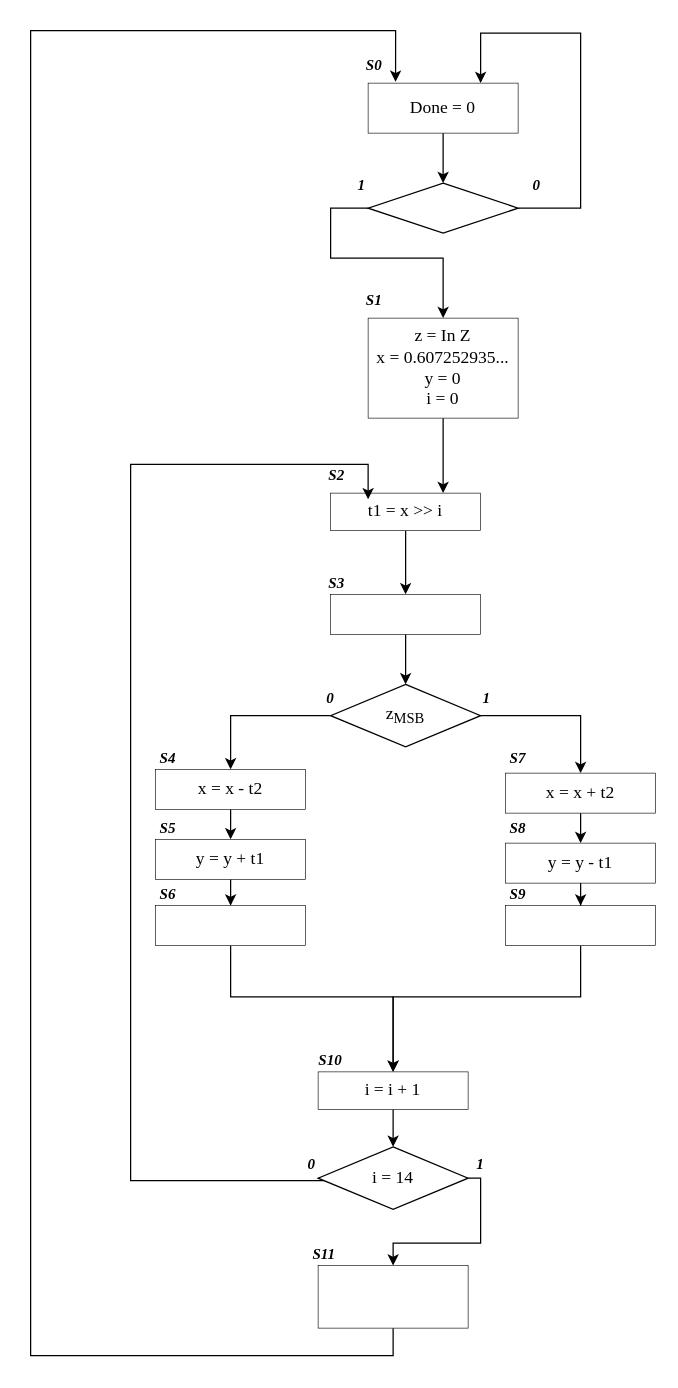
Some shapes in this 678 by 1388 pixel diagram are drawn without their labels. The box of each missing label's shape, as (x1, y1, x2, y2) in pixels:
Done = 1 Output Cos = X Output Sin = Y: (317, 1265, 468, 1328)
Start: (367, 182, 518, 233)
t2 = y >> i: (330, 594, 480, 634)
z = z + romAtan[i]: (505, 905, 655, 945)
z = z - romAtan[i]: (155, 905, 305, 945)
